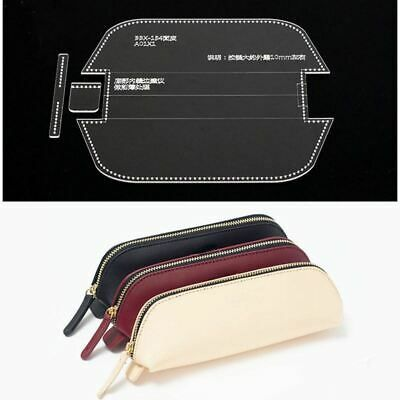cuero: (64, 214, 343, 399)
